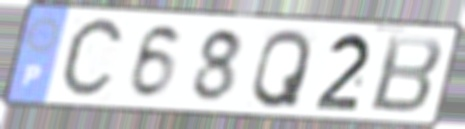2: (314, 31, 372, 112)
6: (125, 23, 184, 102)
8: (188, 26, 246, 105)
B: (366, 33, 446, 117)
C: (55, 14, 128, 105)
Q: (249, 26, 315, 111)
